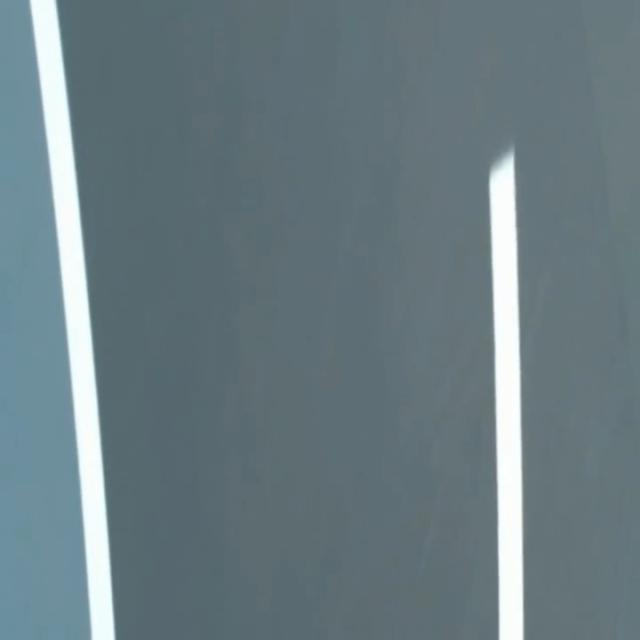center: (489, 148, 524, 639)
left: (29, 0, 115, 639)
